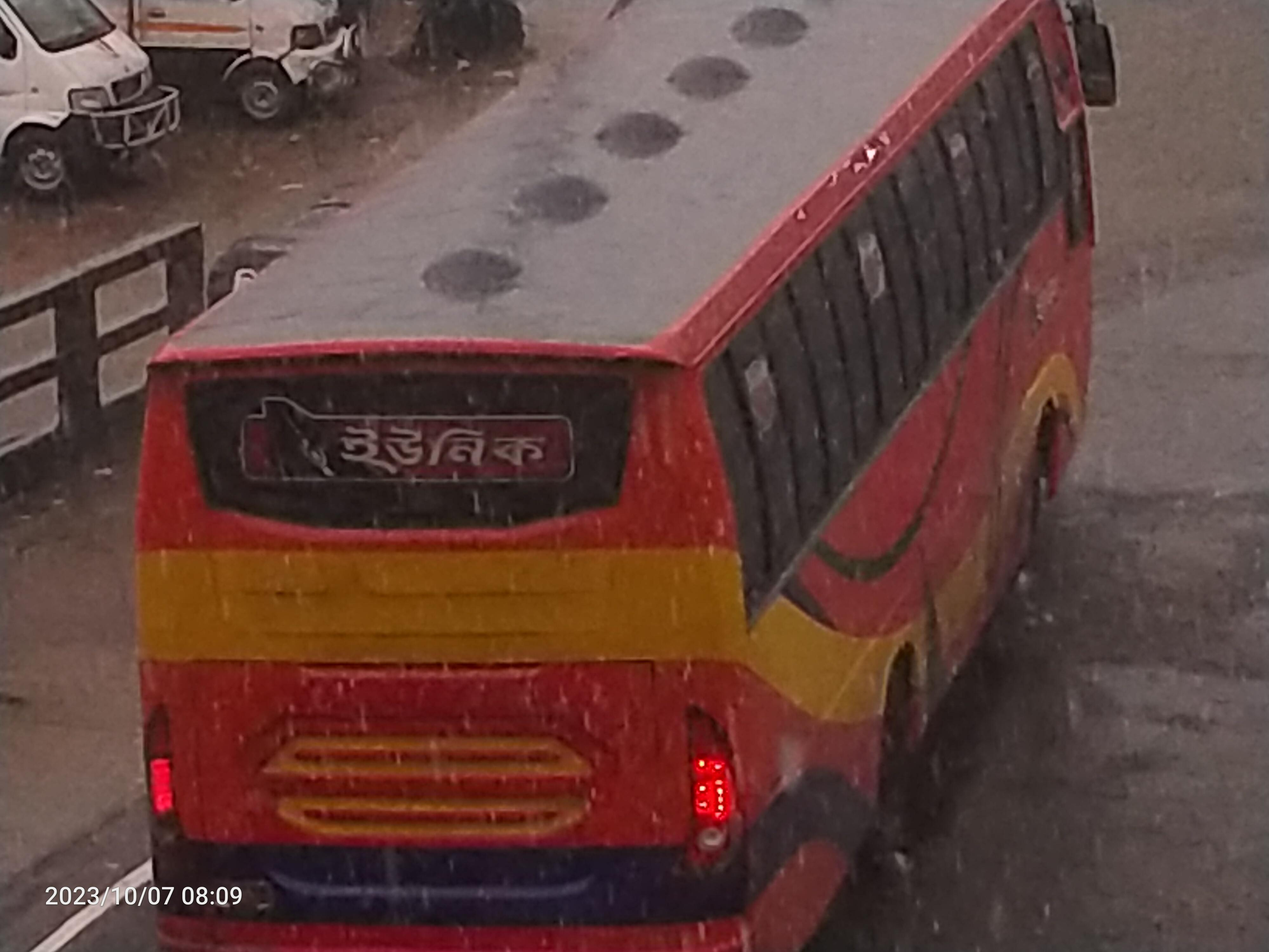Bus: (109, 6, 1154, 952)
